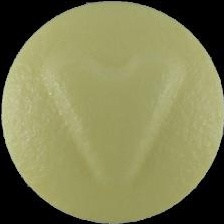68151-2904: (0, 0, 224, 224)
